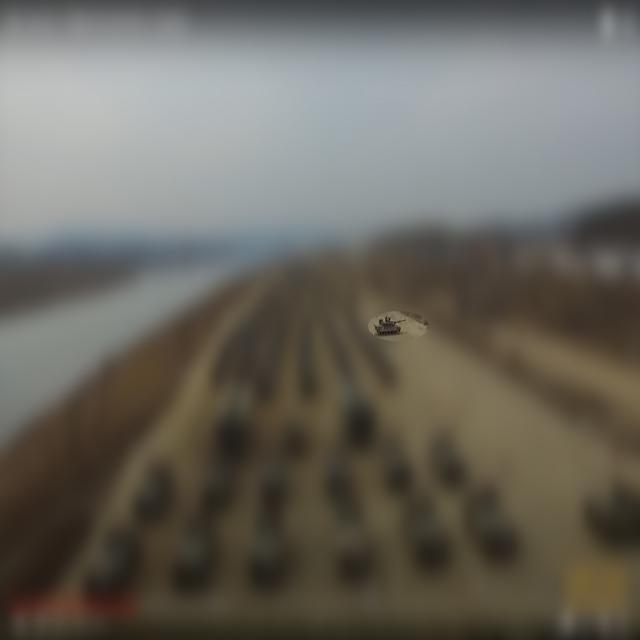tank: (372, 311, 414, 340)
